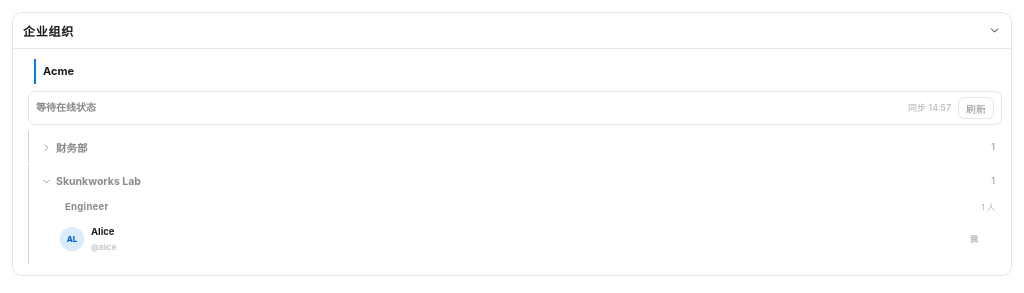
Scenario: OrganizationTree › 真实企业组织树支持自定义部门名称，并可折叠部门节点
This screenshot has width=1024, height=293.
Expected: the text "Alice" is shown, [91,226,114,237]
Click the button "Skunkworks Lab 1" at [98, 181], box [41,170,1002,192]
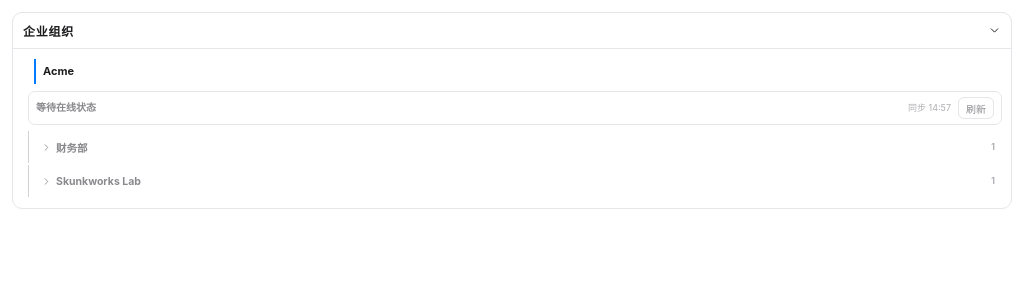
Expected: the button "Skunkworks Lab 1" is collapsed, [41,170,1002,192]
Expected: the text "Alice" is gone
